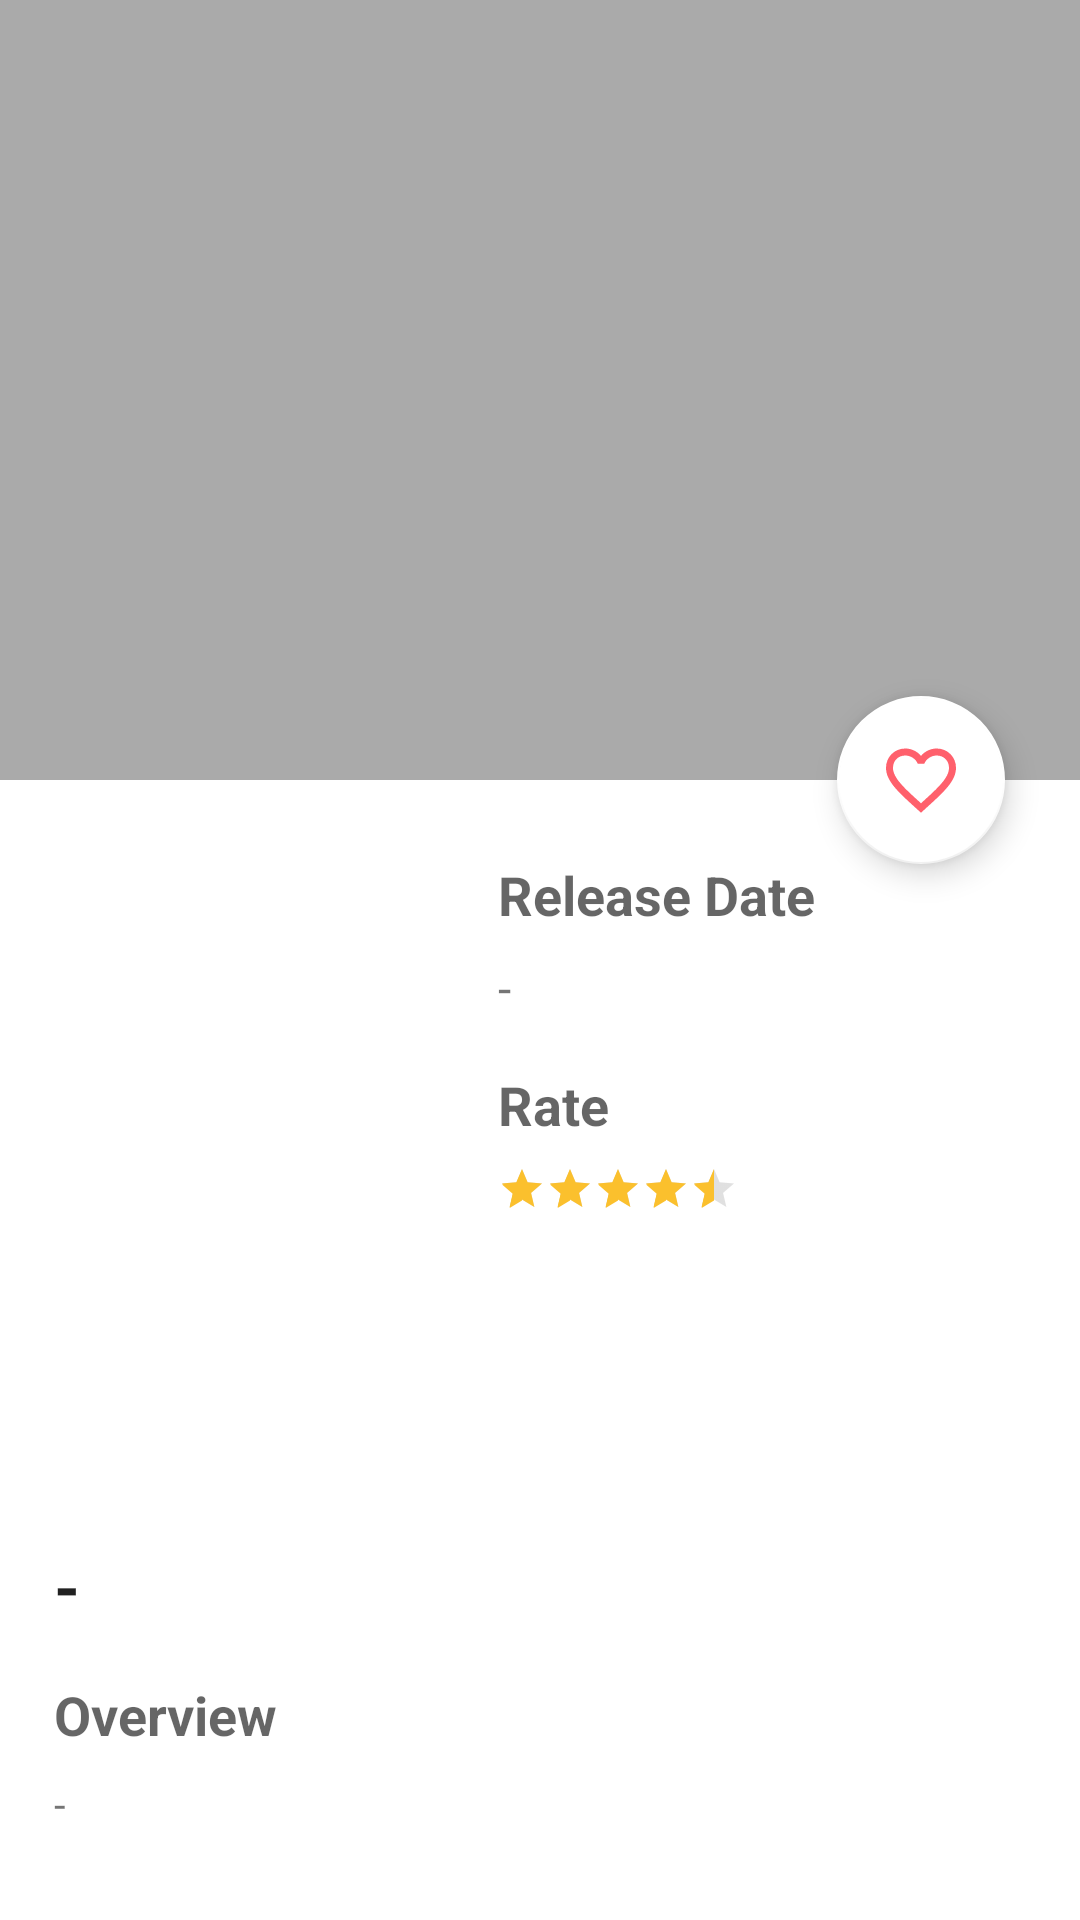

Where to tap for icons on this 1080 x 1920 app screen, as point (x, y):
Favorite: point (921, 780)
